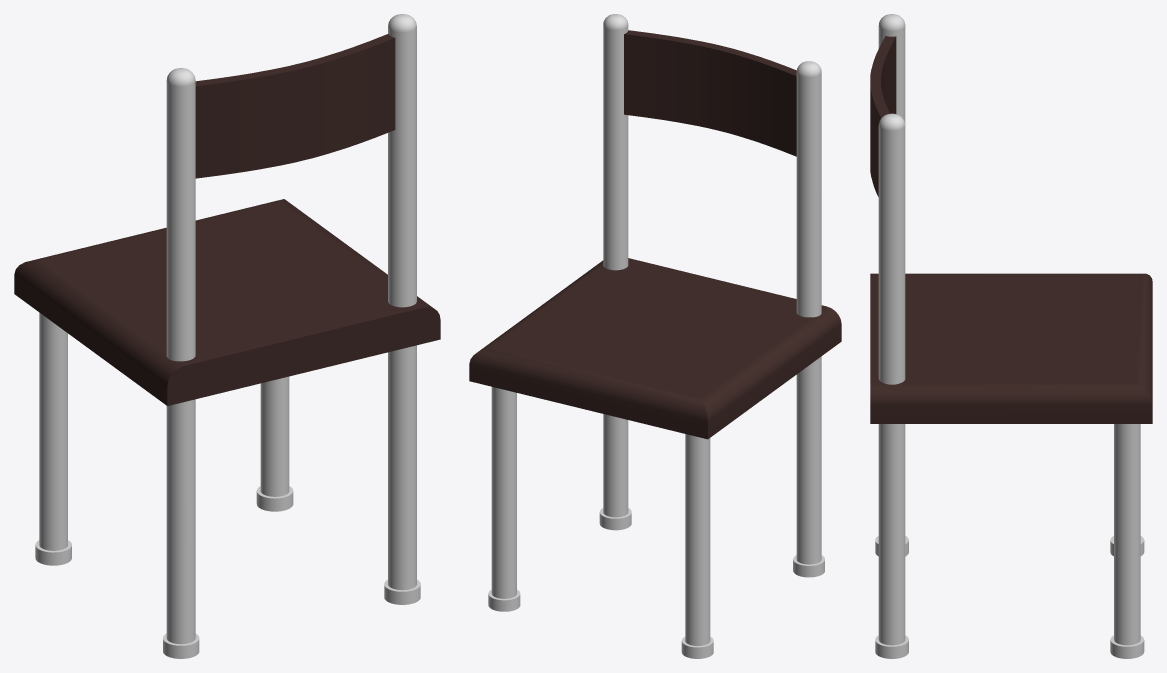
File: Chaise2_4.fbx
The picture shows the model from 3 angles, left to right: view 1: azimuth 30°, elevation 25°; view 2: azimuth 150°, elevation 25°; view 3: azimuth 270°, elevation 25°; orthographic projection. The views are drawn at different scales.
Visible parts, largest first — view 1: pCube2671, pCube2670, pCylinder1662, pCylinder1663, pCylinder1664, pCylinder1665; view 2: pCube2671, pCube2670, pCylinder1662, pCylinder1663, pCylinder1665, pCylinder1664; view 3: pCube2671, pCylinder1663, pCylinder1665, pCube2670, pCylinder1662.
Part boxes in pixels (x1,y1,x2,y2): pCube2671: (14, 199, 440, 405); pCube2670: (195, 34, 395, 178); pCylinder1662: (163, 68, 199, 658); pCylinder1663: (384, 14, 420, 604); pCylinder1664: (35, 312, 71, 565); pCylinder1665: (256, 376, 293, 511); pCube2671: (469, 258, 841, 439); pCube2670: (624, 30, 796, 156); pCylinder1662: (793, 61, 824, 577); pCylinder1663: (599, 14, 631, 530); pCylinder1665: (488, 387, 520, 611); pCylinder1664: (681, 434, 713, 658); pCube2671: (870, 273, 1152, 423); pCylinder1663: (875, 113, 908, 658); pCylinder1665: (1110, 424, 1144, 658); pCube2670: (870, 36, 896, 196); pCylinder1662: (875, 14, 908, 556).
Bounding box in the file's own units: 40.39 × 82.1 × 39.23.
